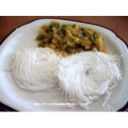idiyappam: (62, 52, 119, 104), (14, 45, 59, 89)
